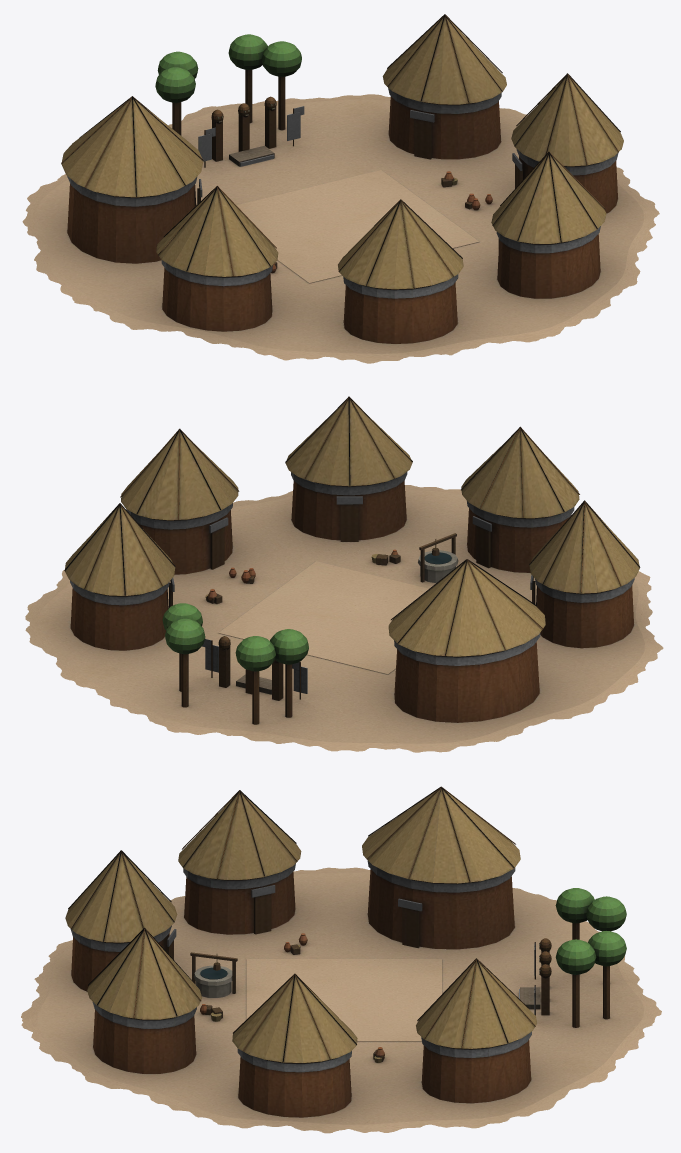
Rendered from bronze-town-small-a-westafrica-5c270d5d.glb.
3 renders of one model, top to bottom at view 1: azimuth 30°, elevation 25°; view 2: azimuth 150°, elevation 25°; view 3: azimuth 270°, elevation 25°, orthographic.
Parts seen in each view (by area): view 1: LOD0; view 2: LOD0; view 3: LOD0.
Boxes of the visible parts, bbox=[...] form: LOD0: bbox=[22, 14, 659, 363]; LOD0: bbox=[25, 396, 663, 752]; LOD0: bbox=[21, 786, 661, 1133].
Size of what is drawn, in the model's own units: 3.95 by 0.9422 by 4.01.
3 materials, 3 textured.
